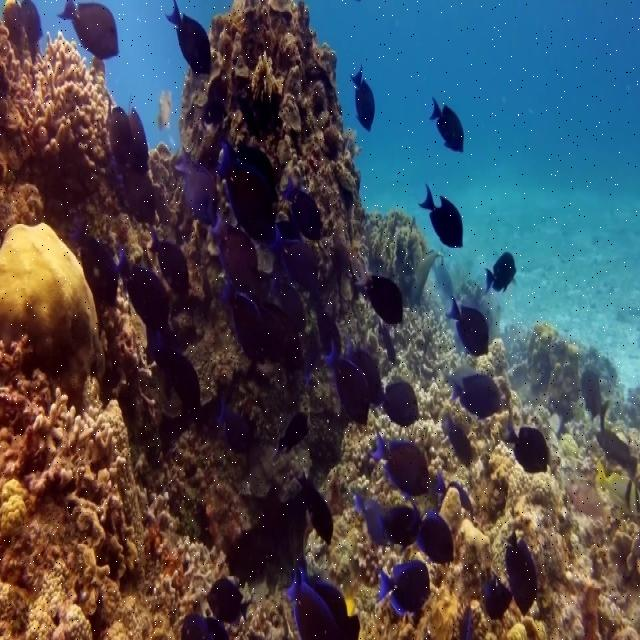fish: (10, 0, 564, 639)
